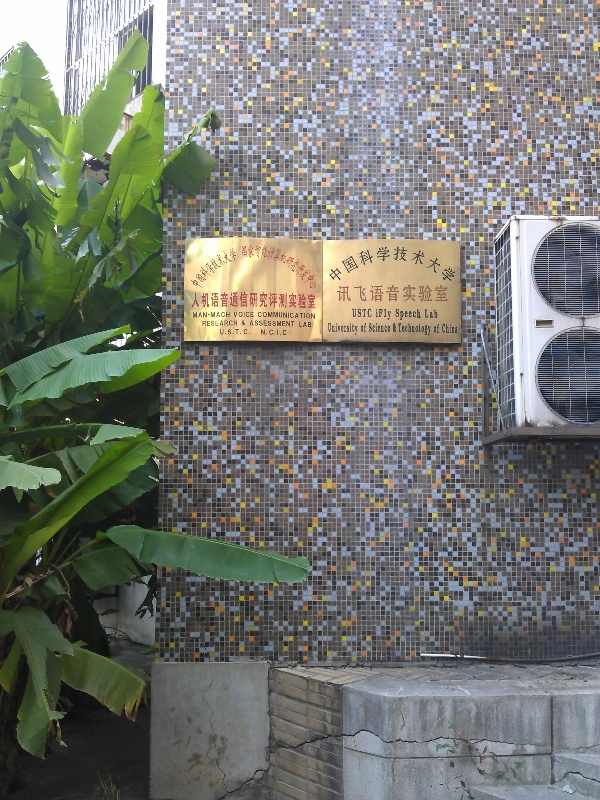text: (257, 233, 272, 291), (273, 233, 288, 291), (289, 233, 304, 291), (305, 233, 320, 291), (225, 244, 241, 292), (193, 244, 208, 292), (209, 244, 224, 292), (337, 246, 352, 284), (353, 246, 368, 284), (369, 246, 384, 284), (385, 246, 400, 284), (401, 246, 416, 284), (417, 246, 432, 284), (433, 246, 448, 284), (249, 233, 256, 291), (337, 285, 352, 302), (353, 285, 368, 302), (369, 285, 384, 302), (385, 285, 400, 302), (401, 285, 416, 302), (417, 285, 432, 302), (433, 285, 448, 302), (193, 293, 208, 309), (209, 293, 224, 309), (225, 293, 240, 309), (241, 293, 256, 309), (257, 293, 272, 309), (273, 293, 288, 309), (289, 293, 304, 309), (321, 233, 325, 291), (330, 246, 336, 284), (449, 246, 455, 284), (401, 323, 416, 337), (417, 323, 431, 337), (337, 323, 352, 336), (188, 244, 192, 292), (401, 309, 416, 321), (305, 293, 316, 309), (353, 309, 368, 319), (369, 323, 384, 333), (434, 324, 448, 334), (273, 312, 288, 320), (289, 312, 304, 320), (257, 320, 272, 328), (273, 320, 288, 328), (258, 312, 272, 320), (193, 312, 208, 319), (209, 312, 224, 319), (225, 329, 240, 336), (328, 323, 336, 336), (376, 308, 384, 321), (449, 324, 459, 334), (273, 329, 287, 336), (385, 308, 392, 321), (209, 321, 224, 327), (305, 312, 316, 320), (241, 312, 255, 318), (242, 321, 256, 327), (225, 321, 238, 327), (425, 309, 432, 320), (261, 329, 272, 336), (241, 329, 251, 336), (361, 323, 368, 333), (353, 323, 358, 336), (393, 324, 400, 333), (395, 309, 400, 321), (385, 323, 391, 333), (442, 324, 448, 334), (433, 309, 438, 320), (305, 321, 312, 328), (417, 309, 421, 321), (250, 320, 256, 328), (289, 320, 295, 328), (225, 312, 231, 319), (369, 309, 373, 319), (202, 321, 208, 327), (234, 312, 240, 318), (299, 321, 304, 328), (220, 329, 224, 336), (398, 323, 400, 337)
